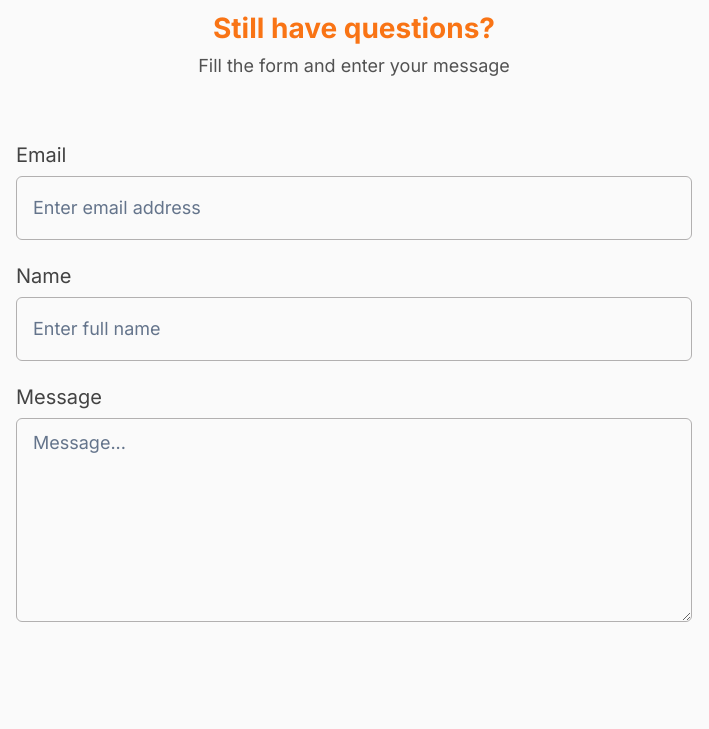
additionalQuestionsForm Tests › should display success message on successful form submission
Step 1. Type "John Doe" into the field labelled "Name" → (354, 329), box [16,297,692,361]
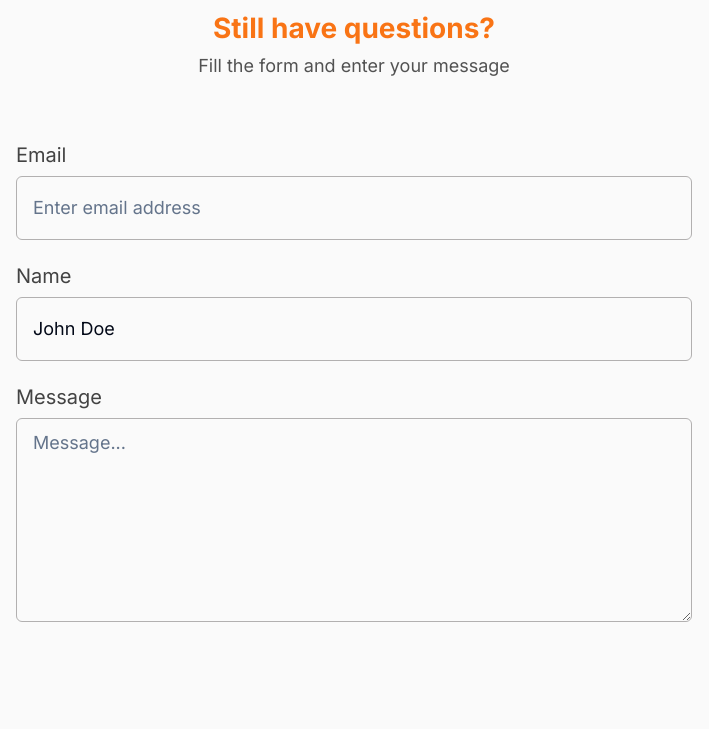
Step 2. Type "john.doe@example.com" into the field labelled "Email" → (354, 208), box [16,176,692,240]
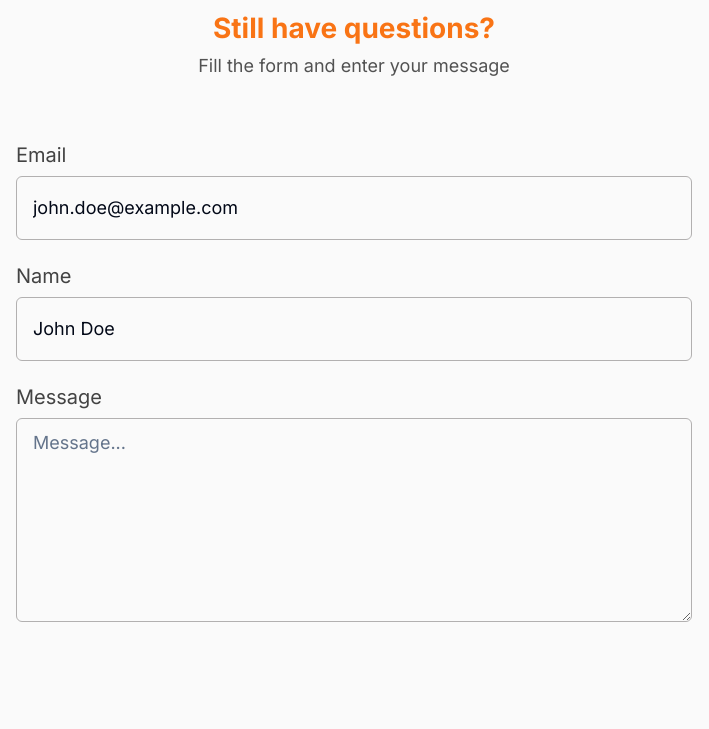
Step 3. Type "This is a test message" into the text box labelled "Message" → (354, 520), box [16,418,692,622]
(page scrolled)
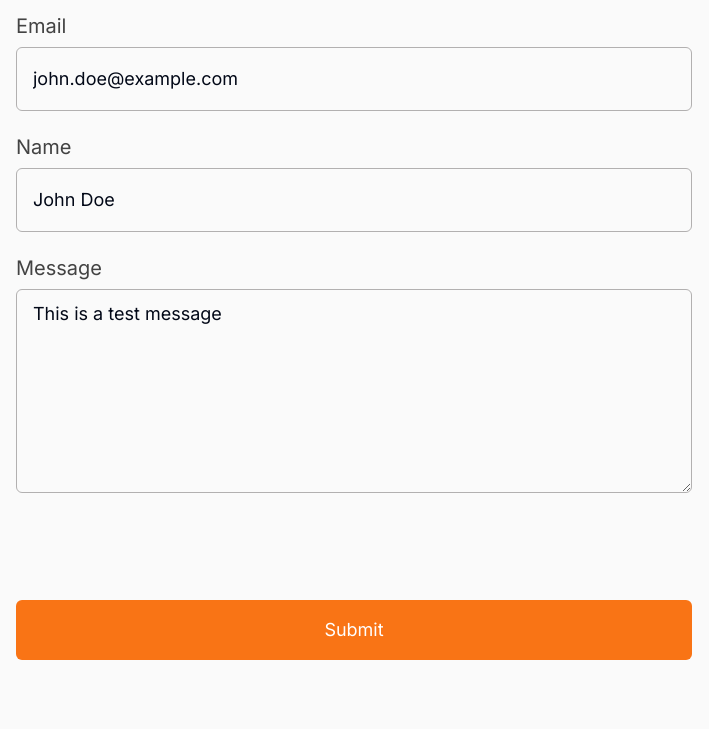
Step 4. Click the button "Submit" → (354, 630), box [16,600,692,660]
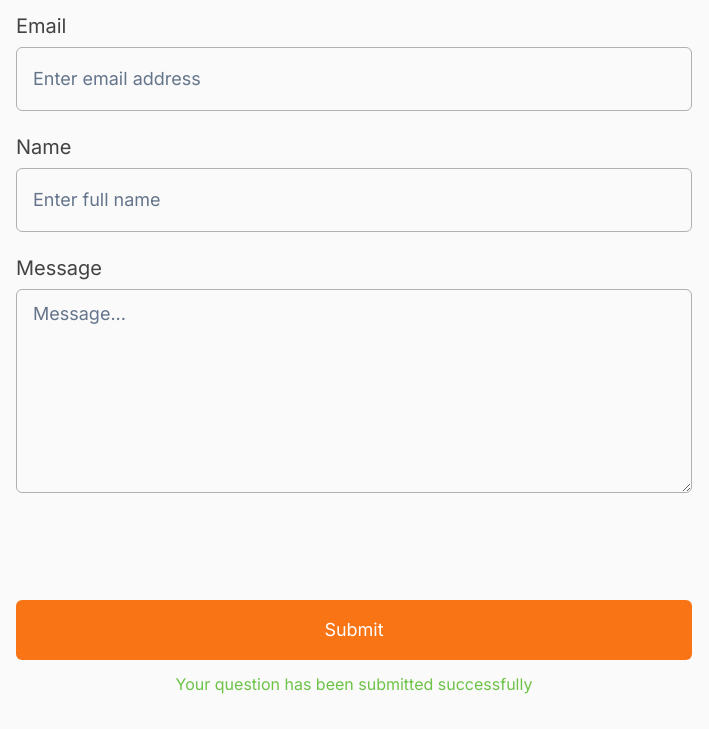
Expected: the text "Your question has been submitted successfully" is shown, [176,674,532,694]
